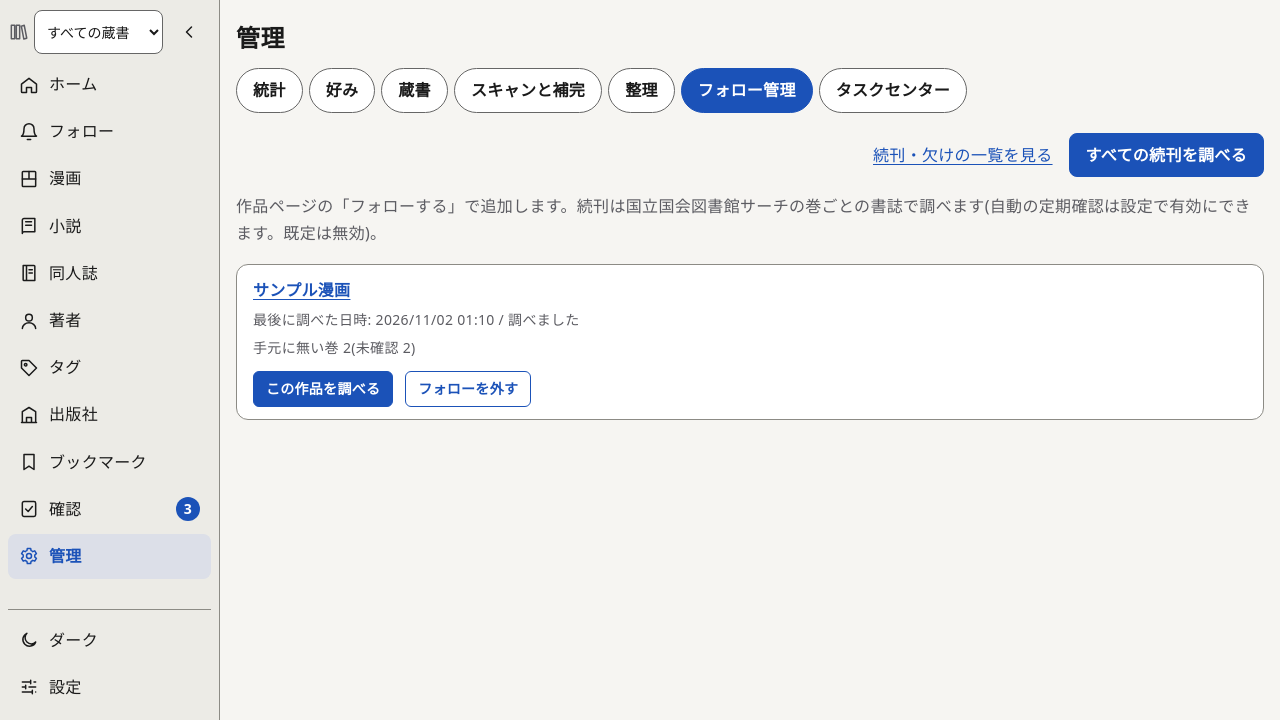
Scenario: フォロー › フォロー管理: 一覧・続刊を調べる・フォローを外す
Expected: the text "手元に無い巻 2(未確認 2)" is shown, [253, 338, 416, 356]
Click the button "すべての続刊を調べる" at (1166, 155), box [1068, 133, 1264, 177]
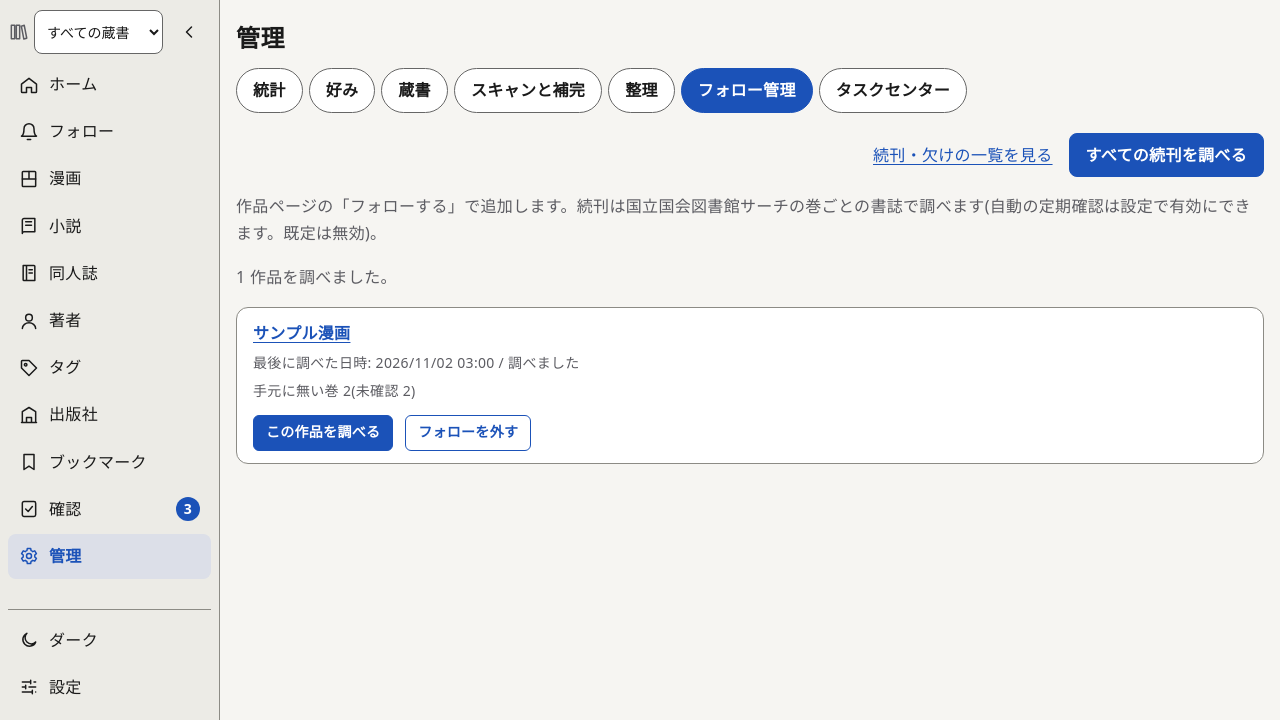
Expected: the text "1 作品を調べました。" is shown, [236, 266, 397, 288]
Click the button "フォローを外す" at (468, 432), box [405, 414, 531, 450]
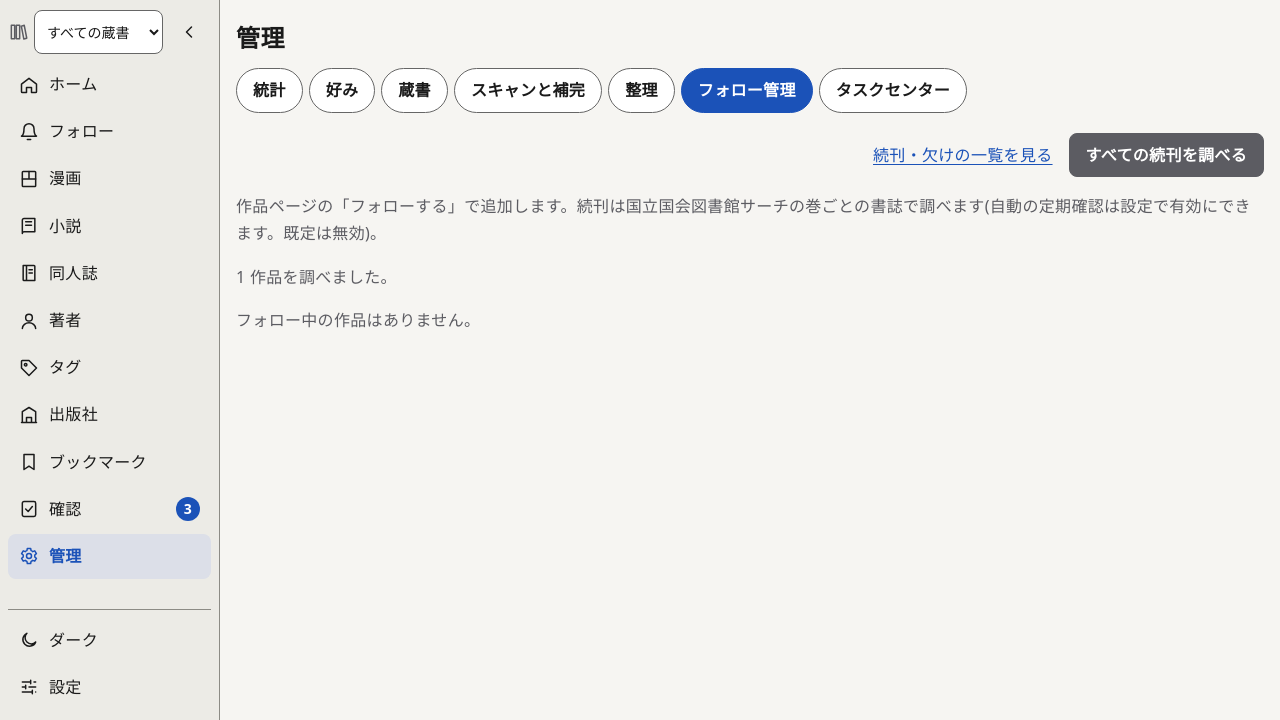
Expected: the text "フォロー中の作品はありません。" is shown, [236, 309, 480, 331]
